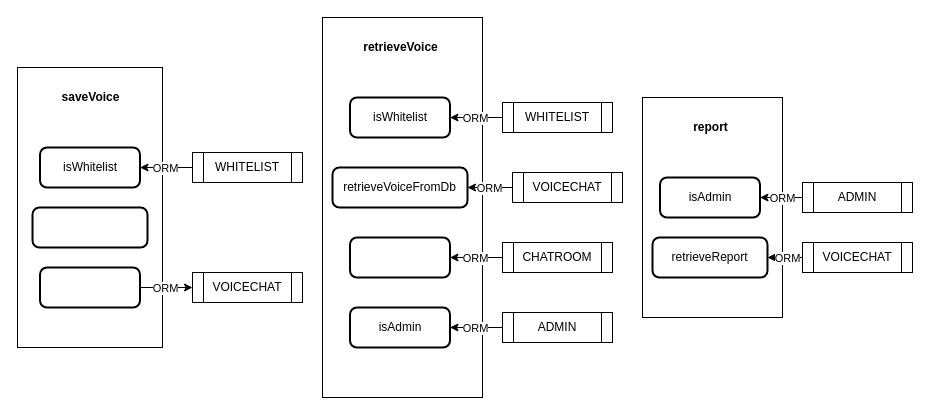
The diagram is 930 pixels wide and 415 high, and some of its shapes have lost their labels. Each missing label, with the box of its shape:
isInChatroom: (348, 236, 450, 278)
isVoiceDataValid: (31, 206, 148, 248)
saveVoiceToDb: (38, 266, 140, 308)
